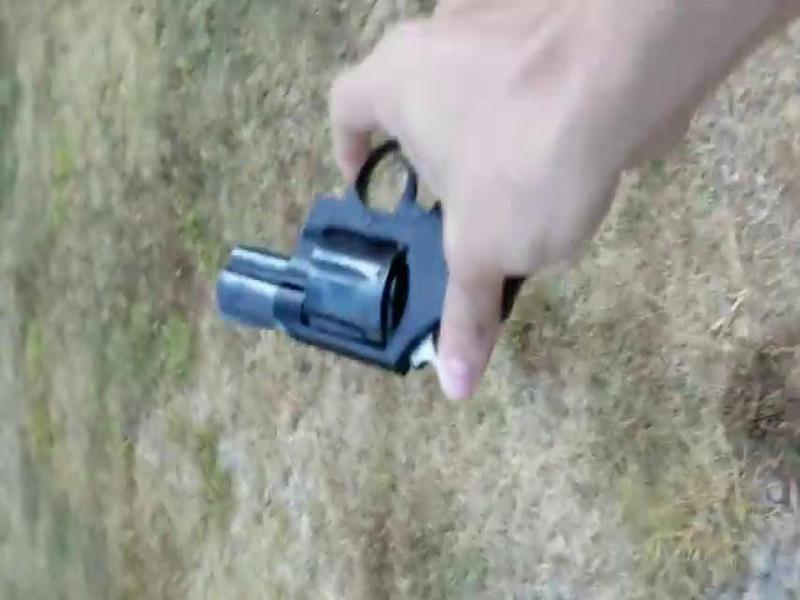Revolver: (172, 141, 557, 400)
